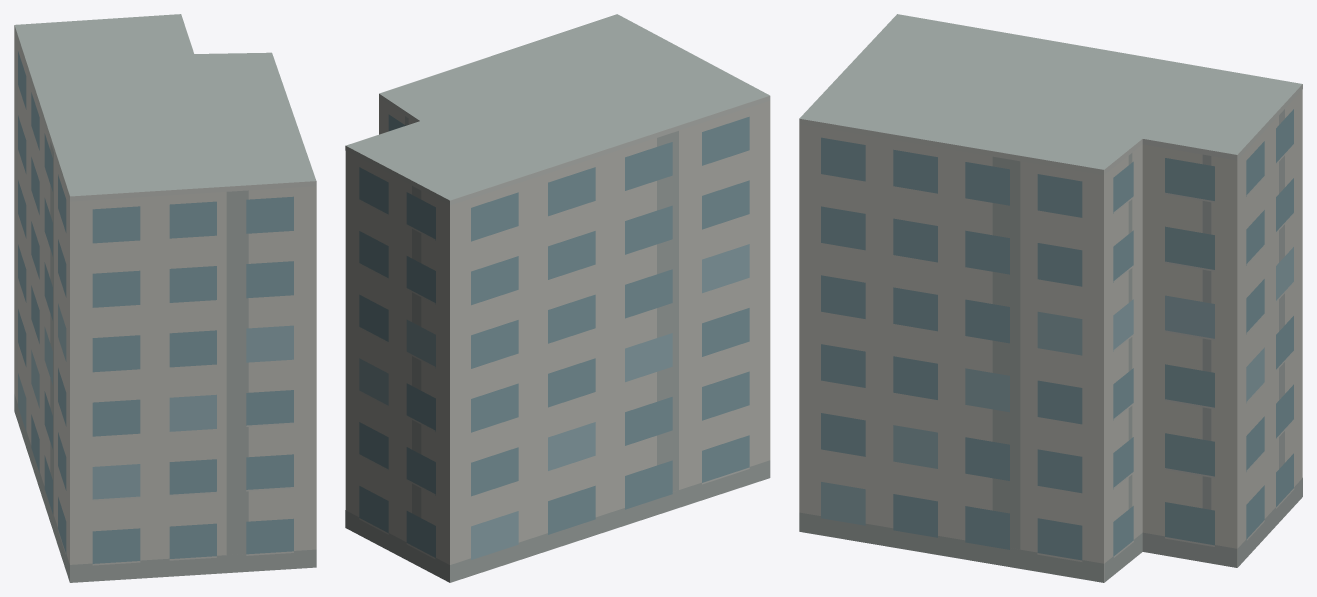
The model's file is survey-upis-32562480.glb.
3 renders of one model, left to right at view 1: azimuth 30°, elevation 25°; view 2: azimuth 150°, elevation 25°; view 3: azimuth 270°, elevation 25°, orthographic. The views are drawn at different scales.
Visible parts, largest first — view 1: survey-upis-32562480.tmp; view 2: survey-upis-32562480.tmp; view 3: survey-upis-32562480.tmp.
Boxes of the visible parts, left/top/right/bottom form: survey-upis-32562480.tmp: left=14, top=14, right=316, bottom=582; survey-upis-32562480.tmp: left=345, top=14, right=770, bottom=582; survey-upis-32562480.tmp: left=799, top=14, right=1302, bottom=582.
Size of the model in its own units: 14.82 by 18.3 by 20.23.
